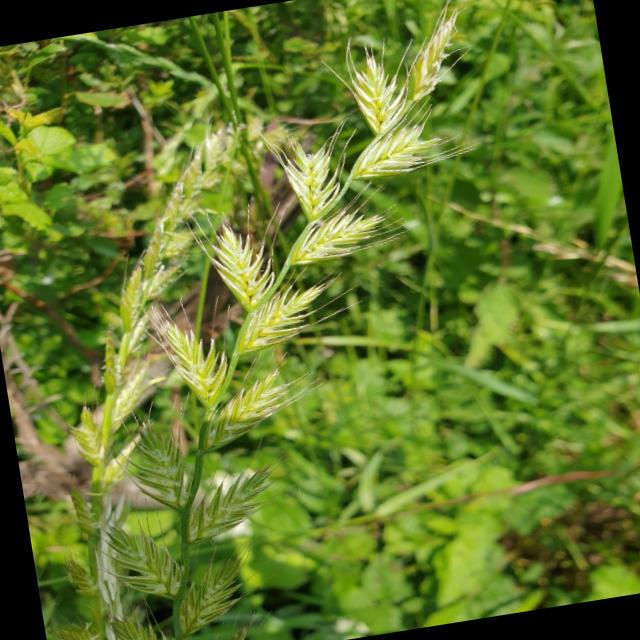Lolium: (20, 21, 547, 640), (10, 131, 309, 640)
